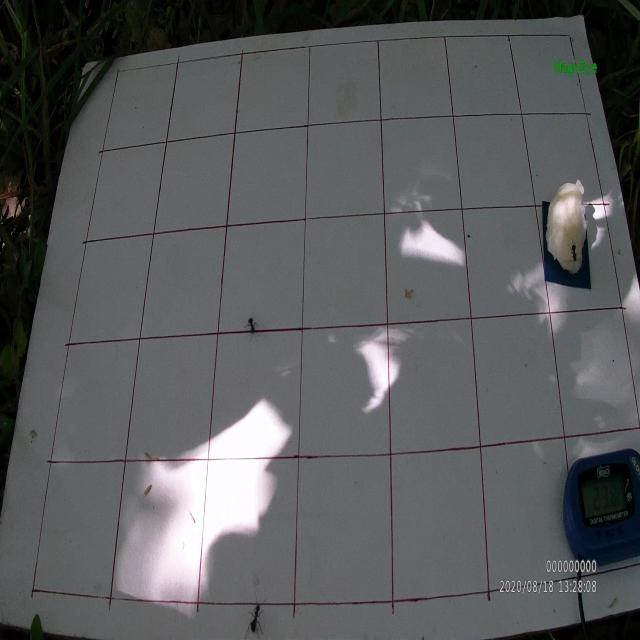Ant: (244, 592, 268, 638), (243, 310, 260, 342), (567, 236, 578, 262)
